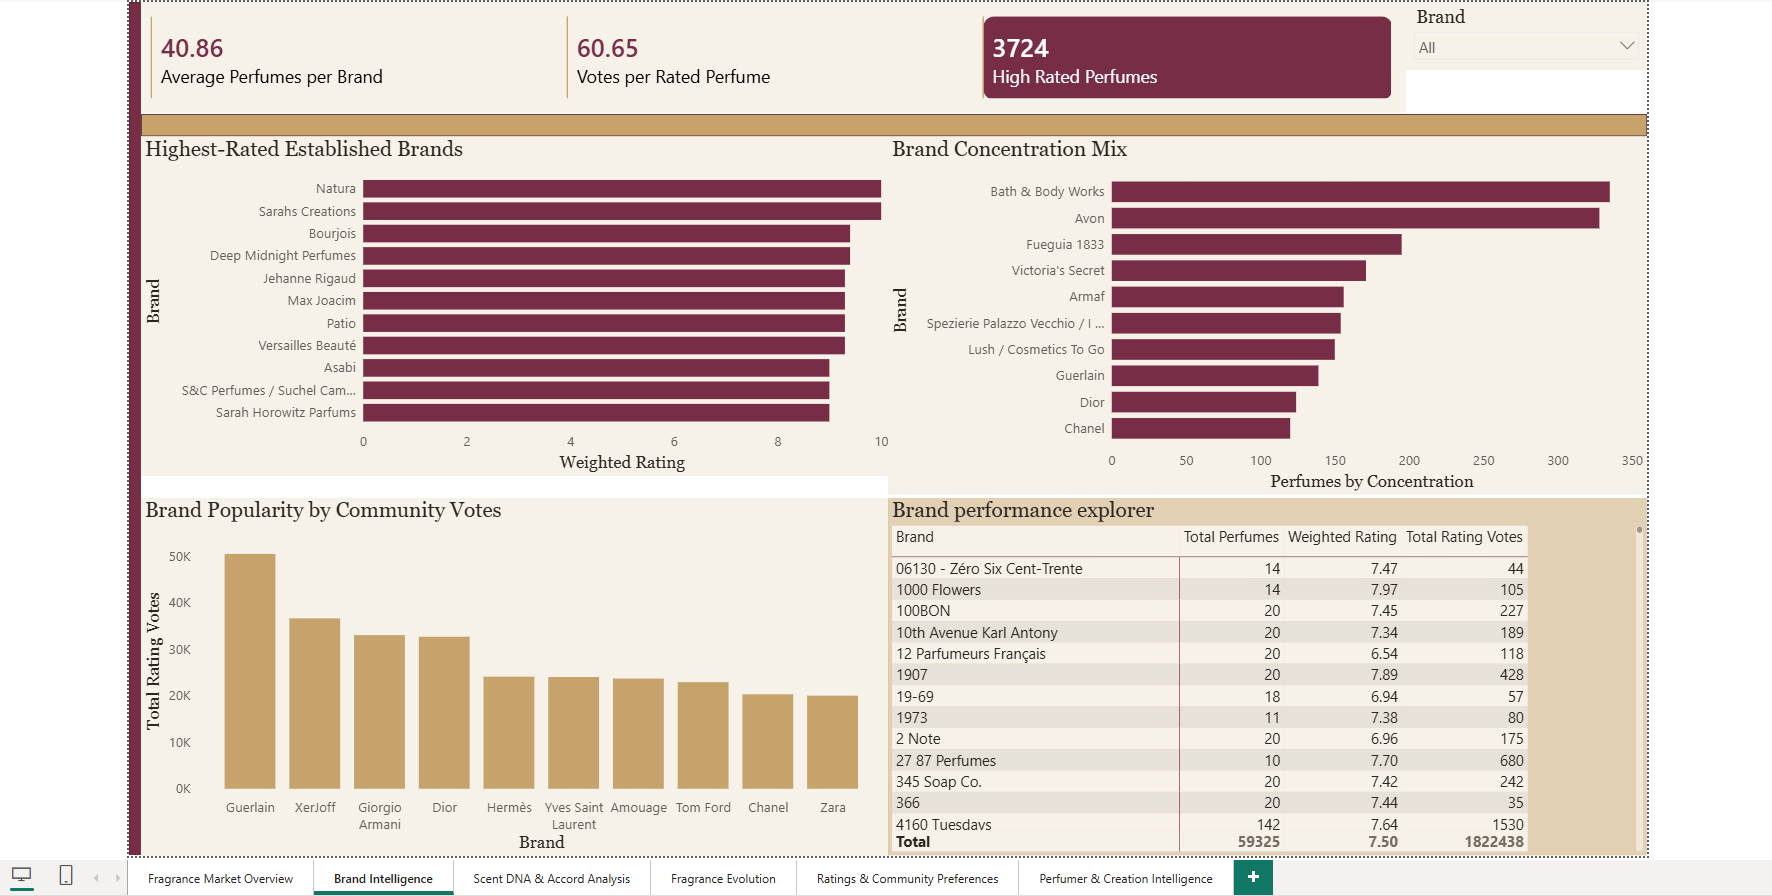

The dashboard page shown, as its layout file describes it:
{"tool":"powerbi","page":{"name":"Brand Intelligence","canvas":[1920,1080],"ordinal":1},"visuals":[{"type":"cardVisual","fields":{"Data":["Perfumes.Average Perfumes per Brand","Perfumes.Votes per Rated Perfume","Perfumes.High Rated Perfumes"]},"box":[10.2,0,1604.9,140],"z":0},{"type":"clusteredBarChart","title":"Highest-Rated Established Brands","fields":{"Y":["Perfumes.Weighted Rating"],"Category":["Perfumes.Brand"]},"box":[14.8,170.6,951,428.5],"z":1000},{"type":"clusteredColumnChart","title":"Brand Popularity by Community Votes","fields":{"Category":["Perfumes.Brand"],"Y":["Perfumes.Total Rating Votes"]},"box":[14.8,627.3,945.7,452.7],"z":2000},{"type":"barChart","title":"Brand Concentration Mix","fields":{"Category":["Perfumes.Brand"],"Y":["Perfumes.Perfumes by Concentration"]},"box":[960,170.7,960,452.3],"z":3000},{"type":"pivotTable","title":"Brand performance explorer","fields":{"Values":["Perfumes.Total Perfumes","Perfumes.Weighted Rating","Perfumes.Total Rating Votes"],"Rows":["Perfumes.Brand"]},"box":[960,627,960,452],"z":4000},{"type":"slicer","fields":{"Values":["Perfumes.Brand"]},"box":[1615.1,0,304.9,86.1],"z":5000},{"type":"shape","box":[0,0,14.8,1078.7],"z":6000},{"type":"shape","box":[14.8,141,1904.8,28.2],"z":7000}]}

Visuals, with their boxes on the page's 1920x1080 design canvas (x1, y1, x2, y2). These are canvas units, not pixel positions in the 1772x896 screenshot, which may show the page scaled, cropped or inside an application window:
cardVisual - Perfumes.Average Perfumes per Brand x Perfumes.Votes per Rated Perfume: rect(10, 0, 1615, 140)
"Highest-Rated Established Brands" clusteredBarChart: rect(15, 171, 966, 599)
"Brand Popularity by Community Votes" clusteredColumnChart: rect(15, 627, 960, 1080)
"Brand Concentration Mix" barChart: rect(960, 171, 1920, 623)
"Brand performance explorer" pivotTable: rect(960, 627, 1920, 1079)
slicer - Perfumes.Brand: rect(1615, 0, 1920, 86)
shape: rect(0, 0, 15, 1079)
shape: rect(15, 141, 1920, 169)
